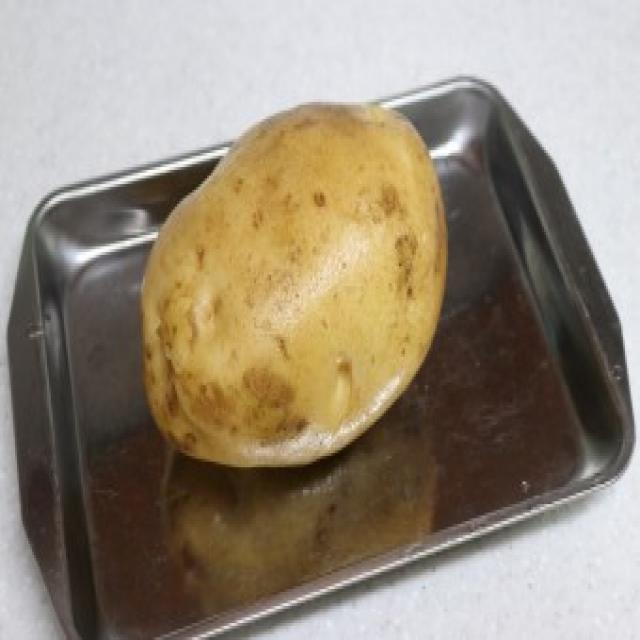potato: (134, 92, 450, 470)
